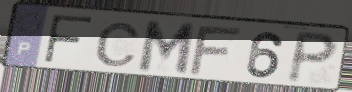6: (245, 30, 285, 81)
C: (93, 21, 143, 69)
F: (186, 25, 245, 77), (41, 13, 96, 68)
M: (135, 19, 198, 78)
P: (284, 29, 341, 86)
